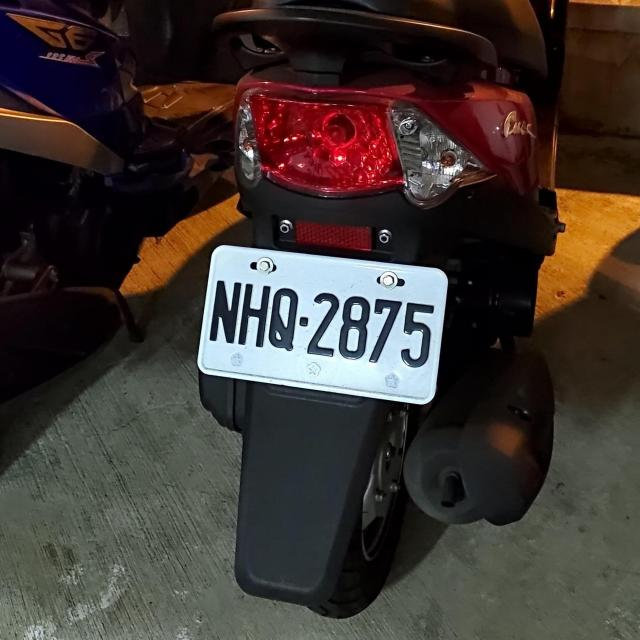W: (198, 241, 450, 401)
